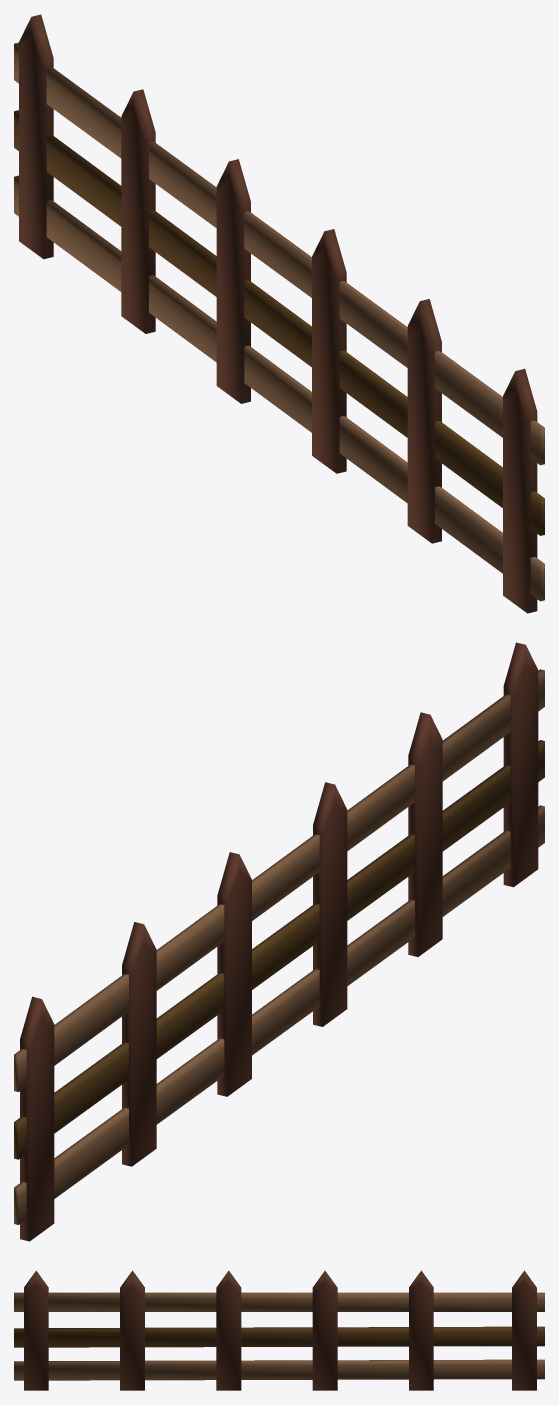
The model's file is FencePicketLarge_01.glb.
The picture shows the model from 3 angles, top to bottom: view 1: azimuth 30°, elevation 25°; view 2: azimuth 150°, elevation 25°; view 3: azimuth 270°, elevation 25°; orthographic projection. The views are drawn at different scales.
Visible parts, largest first — view 1: FencePicketLarge_01; view 2: FencePicketLarge_01; view 3: FencePicketLarge_01.
Boxes of the visible parts, <box> form: FencePicketLarge_01: <box>14,14,544,613</box>; FencePicketLarge_01: <box>14,642,544,1241</box>; FencePicketLarge_01: <box>14,1270,544,1390</box>.
Size of what is drawn, in the model's own units: 0.0534 by 1.21 by 4.94.
Materials: 1 (1 with a texture image).
